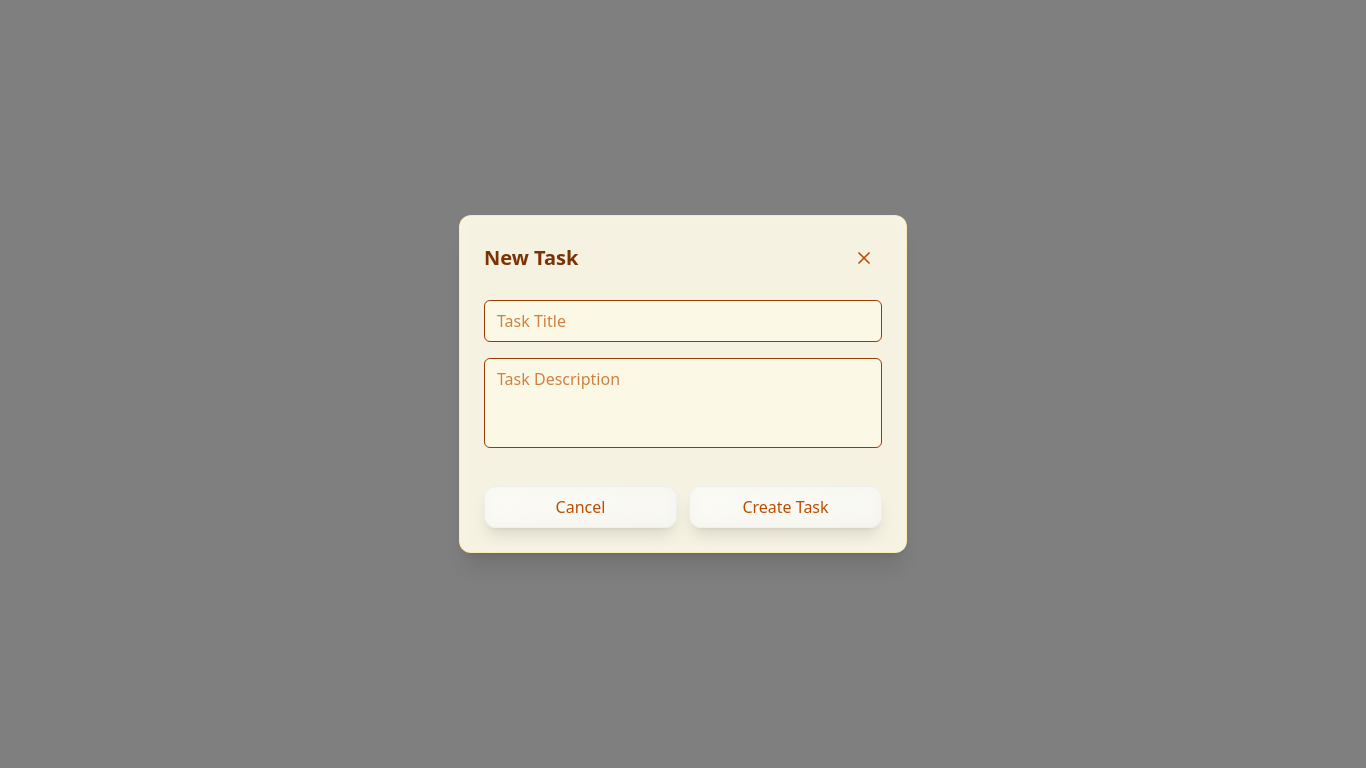
Scenario: TaskForm Component › Form Validation › should show validation error for empty title
Click the button "Create Task".
click(786, 507)  # box [689, 486, 882, 528]
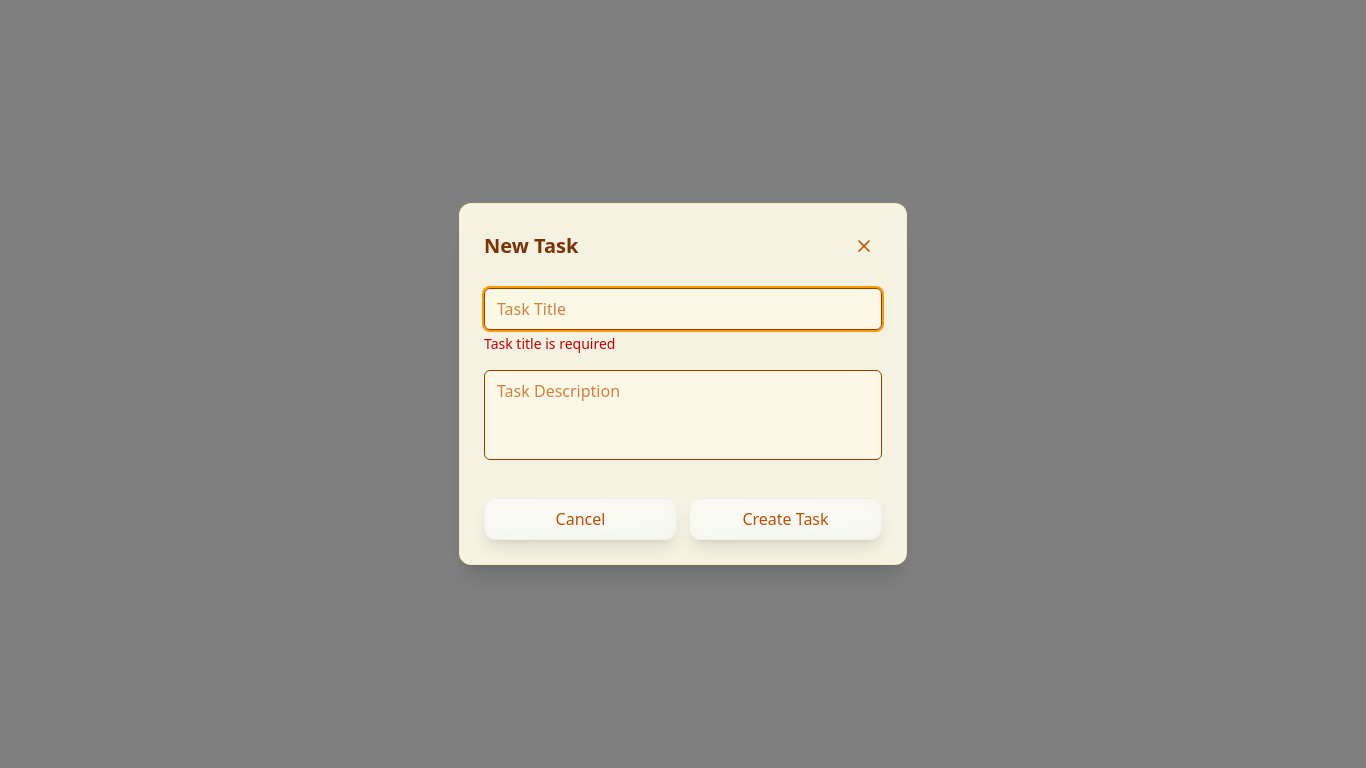
Expected: the text "Task title is required" is shown, [484, 334, 616, 353]
